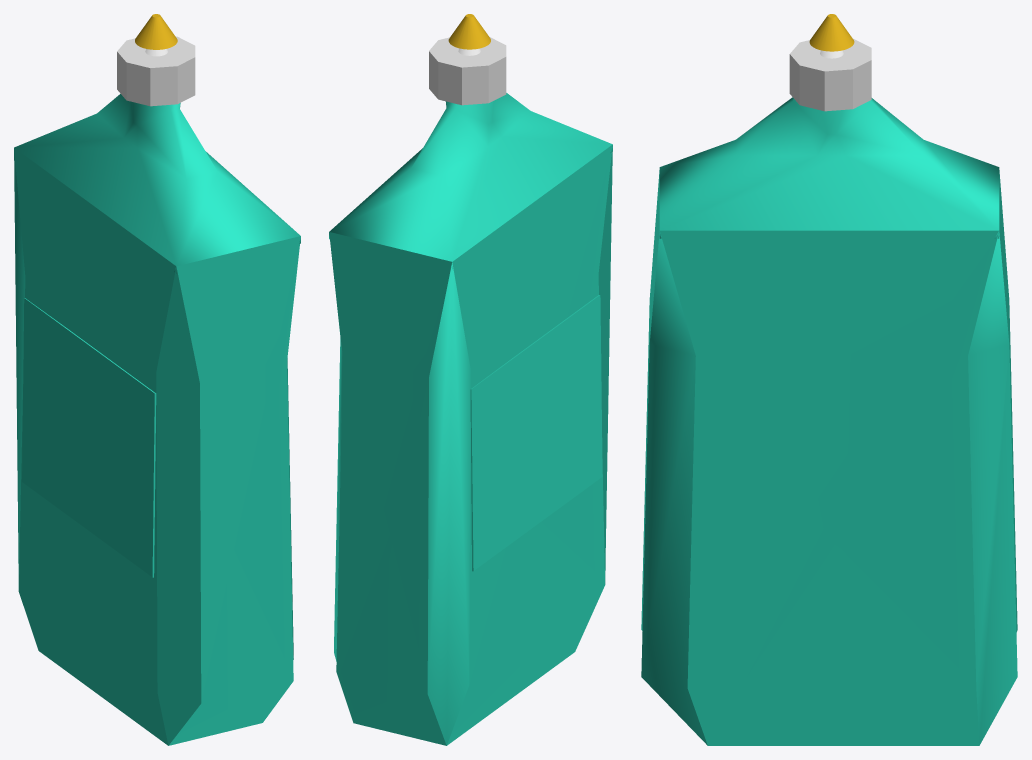
The model's file is ShineProduct.fbx.
3 renders of one model, left to right at view 1: azimuth 30°, elevation 25°; view 2: azimuth 150°, elevation 25°; view 3: azimuth 270°, elevation 25°, orthographic. The views are drawn at different scales.
Visible parts, largest first — view 1: Cube, Cylinder.001, Cone.002; view 2: Cube, Cylinder.001, Cone.002; view 3: Cube, Cylinder.001, Cone.002.
Part boxes in pixels (box(x1,y1,x2,y2)): Cube: box(14, 94, 300, 745); Cylinder.001: box(117, 36, 195, 106); Cone.002: box(135, 14, 177, 49); Cube: box(329, 93, 612, 745); Cylinder.001: box(429, 37, 506, 105); Cone.002: box(448, 14, 490, 49); Cube: box(641, 97, 1017, 745); Cylinder.001: box(789, 38, 871, 111); Cone.002: box(809, 14, 854, 51).
Bounding box in the file's own units: 38.52 × 181 × 87.32.
